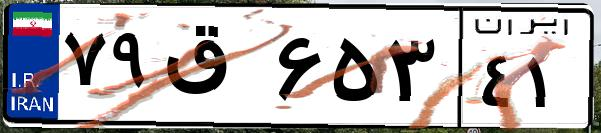1: (525, 38, 570, 115)
3: (385, 28, 445, 110)
4: (475, 38, 525, 113)
5: (330, 28, 385, 110)
6: (270, 28, 330, 110)
7: (57, 26, 110, 100)
9: (110, 28, 158, 98)
ق: (158, 20, 270, 120)
